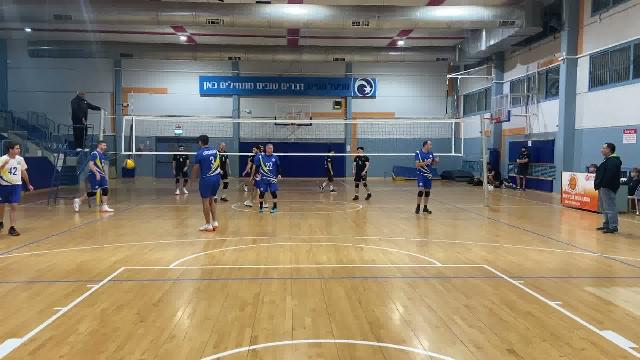ball: (120, 157, 137, 173)
